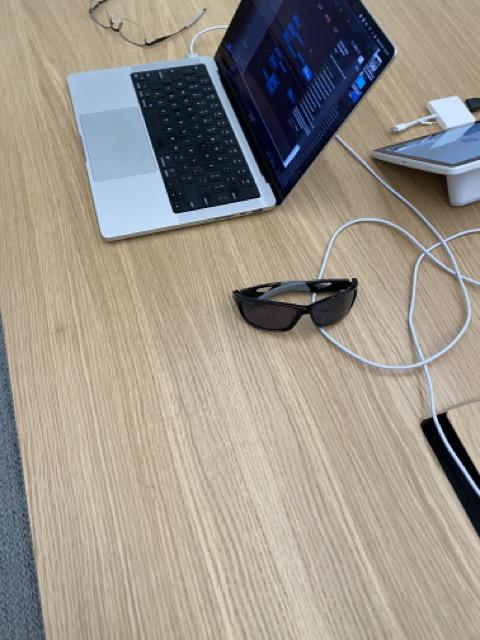Sunglasses: (233, 276, 360, 333)
